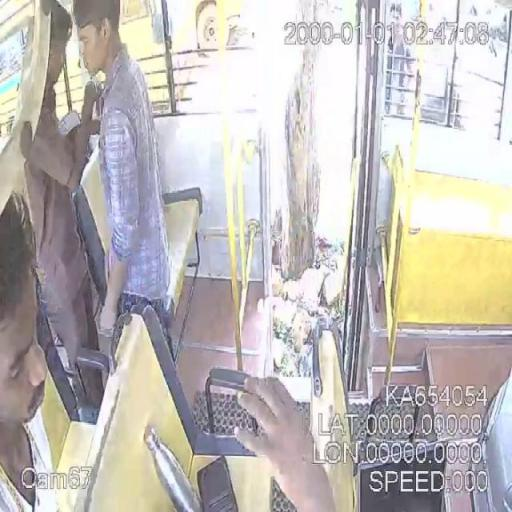persona: (70, 1, 173, 352), (15, 2, 108, 372), (0, 190, 60, 511)
